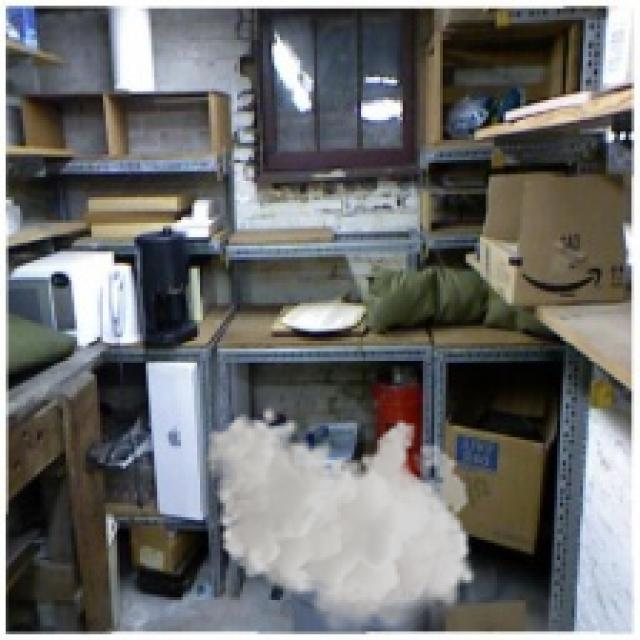Smoke: (205, 406, 480, 638)
